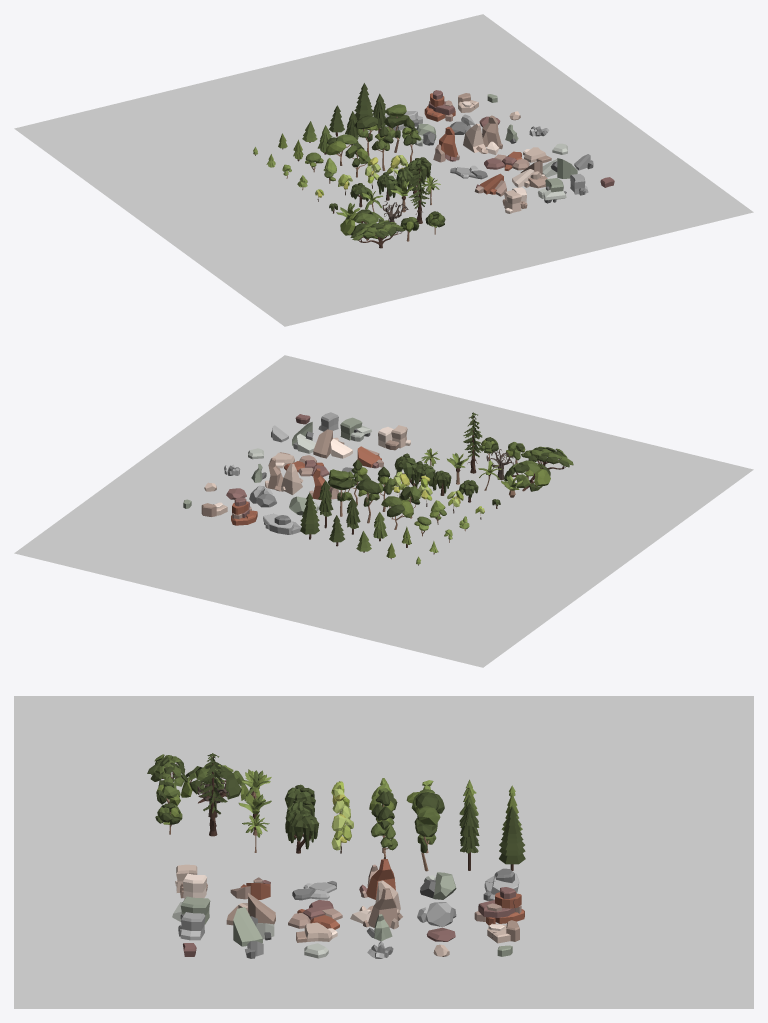
The model's file is trees.glb.
3 views of the same model, one above another, from view 1: azimuth 30°, elevation 25°; view 2: azimuth 150°, elevation 25°; view 3: azimuth 270°, elevation 25° (orthographic). The views are drawn at different scales.
Parts seen in each view (by area): view 1: Plane, Rock Type3 02 mesh, Tree Type0 04 Model, Rock Type1 02 mesh, Tree Type0 01 Model, Rock Type5 02 mesh, Tree Type6 04 Model, Rock Type4 02 mesh, Rock Type3 01 mesh, Tree Type3 05 Model, Tree Type0 03 Model, Rock Type6 01 mesh (+1 smaller); view 2: Plane, Tree Type0 01 Model, Rock Type3 02 mesh, Tree Type6 04 Model, Rock Type5 02 mesh, Tree Type0 04 Model, Rock Type6 01 mesh, Tree Type3 05 Model, Rock Type1 01 mesh, Rock Type1 02 mesh, Tree Type0 03 Model, Tree Type3 03 Model (+3 smaller); view 3: Plane, Rock Type3 02 mesh, Rock Type1 02 mesh, Tree Type0 01 Model, Rock Type5 03 mesh, Rock Type4 02 mesh, Tree Type6 04 Model, Tree Type1 05 Model, Tree Type0 03 Model, Tree Type0 04 Model, Rock Type6 01 mesh, Tree Type3 05 Model (+14 smaller).
Boxes of the visible parts, box(x1,y1,x2,y2) form: Plane: box(14, 14, 753, 326); Rock Type3 02 mesh: box(463, 115, 502, 154); Tree Type0 04 Model: box(350, 220, 405, 248); Rock Type1 02 mesh: box(424, 90, 455, 121); Tree Type0 01 Model: box(340, 209, 384, 240); Rock Type5 02 mesh: box(512, 161, 547, 188); Tree Type6 04 Model: box(396, 157, 431, 193); Rock Type4 02 mesh: box(484, 151, 529, 170); Rock Type3 01 mesh: box(433, 126, 459, 162); Tree Type3 05 Model: box(384, 104, 409, 152); Tree Type0 03 Model: box(408, 163, 429, 223); Rock Type6 01 mesh: box(502, 187, 527, 213); Plane: box(14, 355, 753, 667); Tree Type0 01 Model: box(504, 460, 550, 491); Rock Type3 02 mesh: box(265, 458, 303, 494); Tree Type6 04 Model: box(394, 453, 435, 487); Rock Type5 02 mesh: box(313, 429, 352, 458); Tree Type0 04 Model: box(521, 446, 573, 469); Rock Type6 01 mesh: box(378, 425, 410, 450); Tree Type3 05 Model: box(327, 469, 353, 516); Rock Type1 01 mesh: box(263, 513, 301, 534); Rock Type1 02 mesh: box(231, 497, 257, 525); Tree Type0 03 Model: box(463, 412, 482, 473); Tree Type3 03 Model: box(381, 496, 413, 529); Plane: box(14, 696, 753, 1008); Rock Type3 02 mesh: box(350, 880, 402, 929); Rock Type1 02 mesh: box(474, 887, 524, 925); Tree Type0 01 Model: box(181, 763, 248, 803); Rock Type5 03 mesh: box(233, 907, 274, 946); Rock Type4 02 mesh: box(288, 900, 342, 929); Tree Type6 04 Model: box(285, 809, 319, 853); Tree Type1 05 Model: box(499, 807, 525, 870); Tree Type0 03 Model: box(199, 753, 227, 836); Tree Type0 04 Model: box(147, 754, 187, 788); Rock Type6 01 mesh: box(175, 864, 207, 898); Tree Type3 05 Model: box(414, 806, 440, 871).
Bounding box in the file's own units: 69.24 × 8.9 × 69.24.
Materials: 6 (5 with a texture image).
